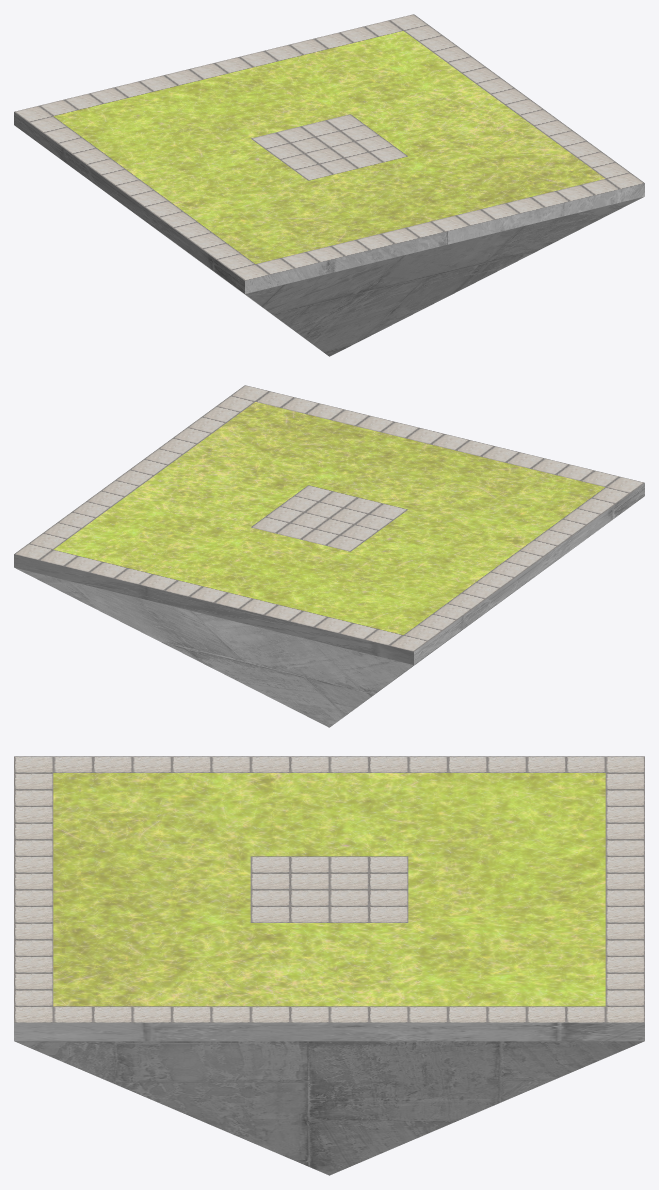
The model's file is floor.glb.
The picture shows the model from 3 angles, top to bottom: view 1: azimuth 30°, elevation 25°; view 2: azimuth 150°, elevation 25°; view 3: azimuth 270°, elevation 25°; orthographic projection. The views are drawn at different scales.
Visible parts, largest first — view 1: Cone; view 2: Cone; view 3: Cone.
Boxes of the visible parts, x1,y1,x2,y2 form: Cone: (14, 14, 644, 356); Cone: (14, 385, 644, 727); Cone: (14, 756, 644, 1175).
Bounding box in the file's own units: 24 × 12 × 24.
Materials: 3 (3 with a texture image).
